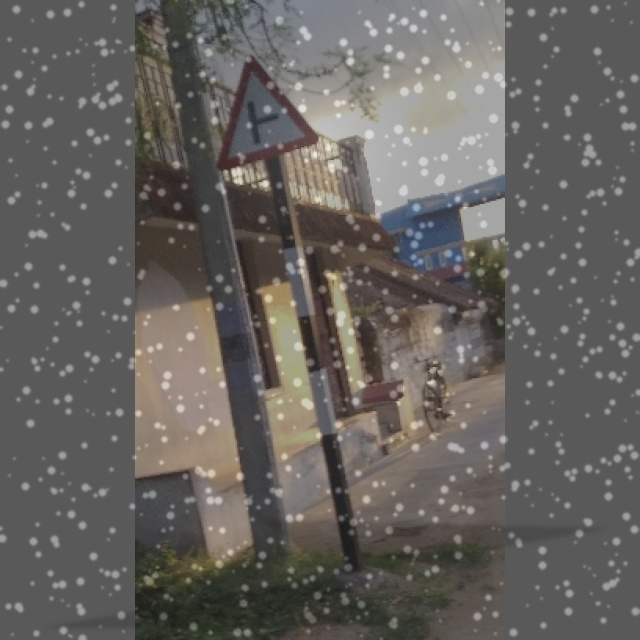Side_Road_Right: (216, 47, 322, 169)
